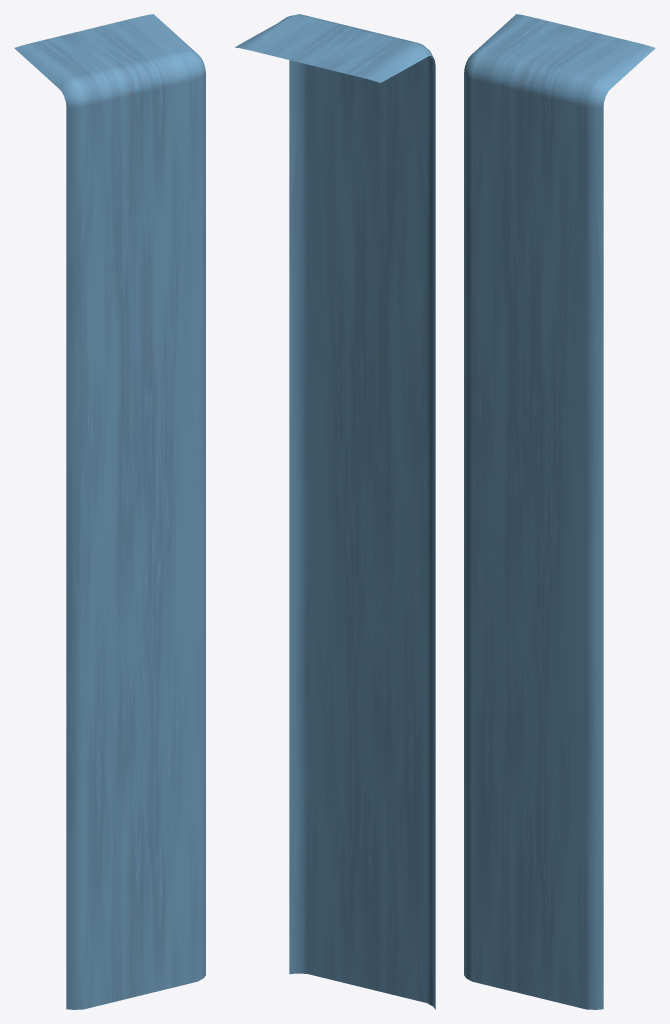
The model's file is Waterfall1.fbx.
3 renders of one model, left to right at view 1: azimuth 30°, elevation 25°; view 2: azimuth 150°, elevation 25°; view 3: azimuth 330°, elevation 25°, orthographic. The views are drawn at different scales.
Parts seen in each view (by area): view 1: pCube68; view 2: pCube68; view 3: pCube68.
Part boxes in pixels (x1=…): pCube68: x1=14, y1=14, x2=205, y2=1009; pCube68: x1=235, y1=14, x2=435, y2=1009; pCube68: x1=464, y1=14, x2=655, y2=1009.
Bounding box in the file's own units: 160 × 1012 × 113.
